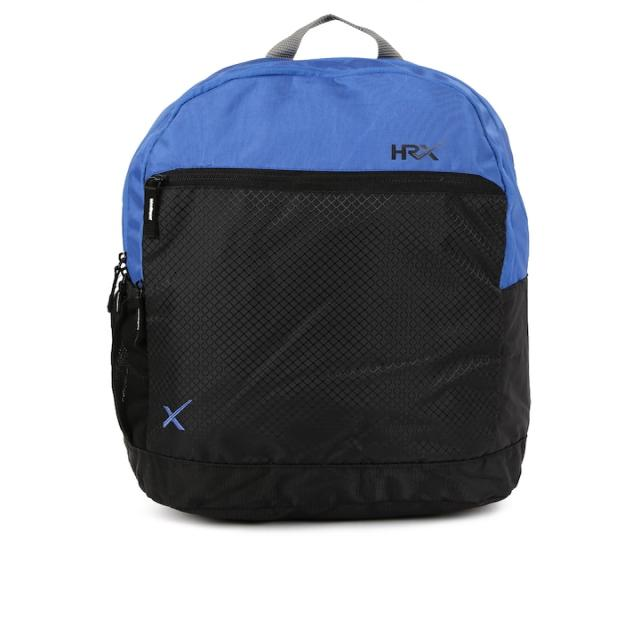backpack: (108, 13, 532, 522)
